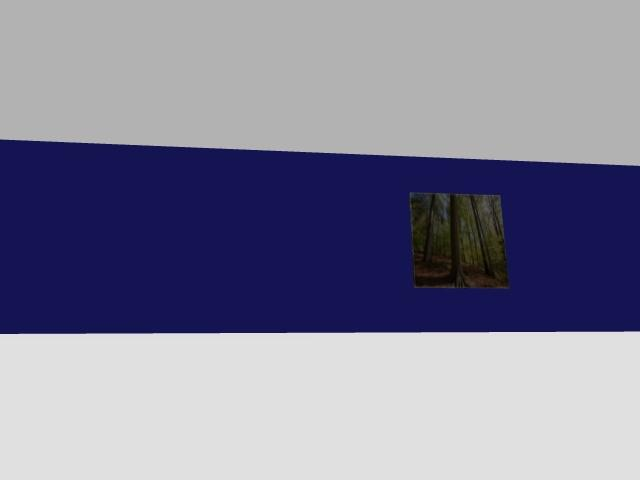tree: (484, 195, 507, 279), (470, 195, 492, 276), (450, 194, 463, 287), (422, 193, 436, 264)
